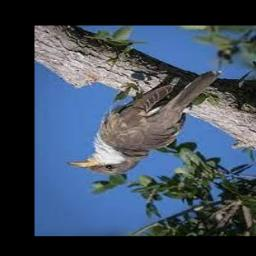Cuckoo: (68, 71, 223, 175)
